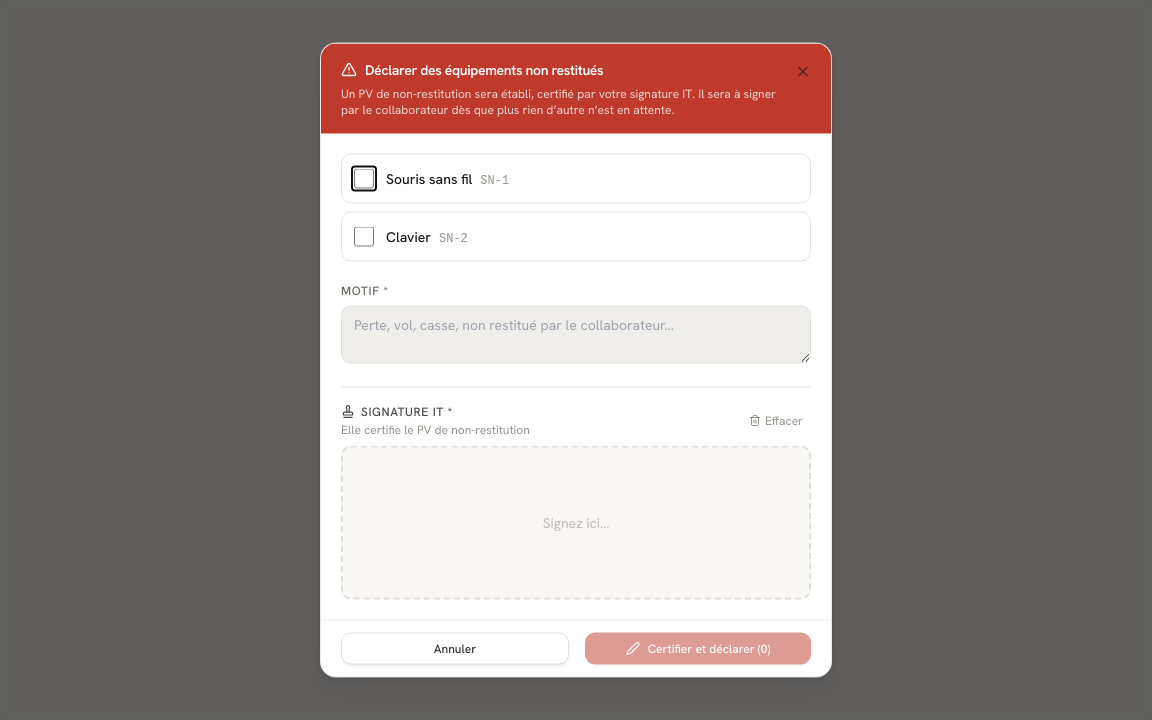
Test case: DeclareNotReturnedModal › bouton inactif tant qu’aucun équipement n’est coché (IMD n° 5)
Check: the button "Certifier et déclarer (0)" is disabled, box [585, 632, 811, 664]
Click the 1st checkbox at (364, 178), box [354, 168, 374, 188]
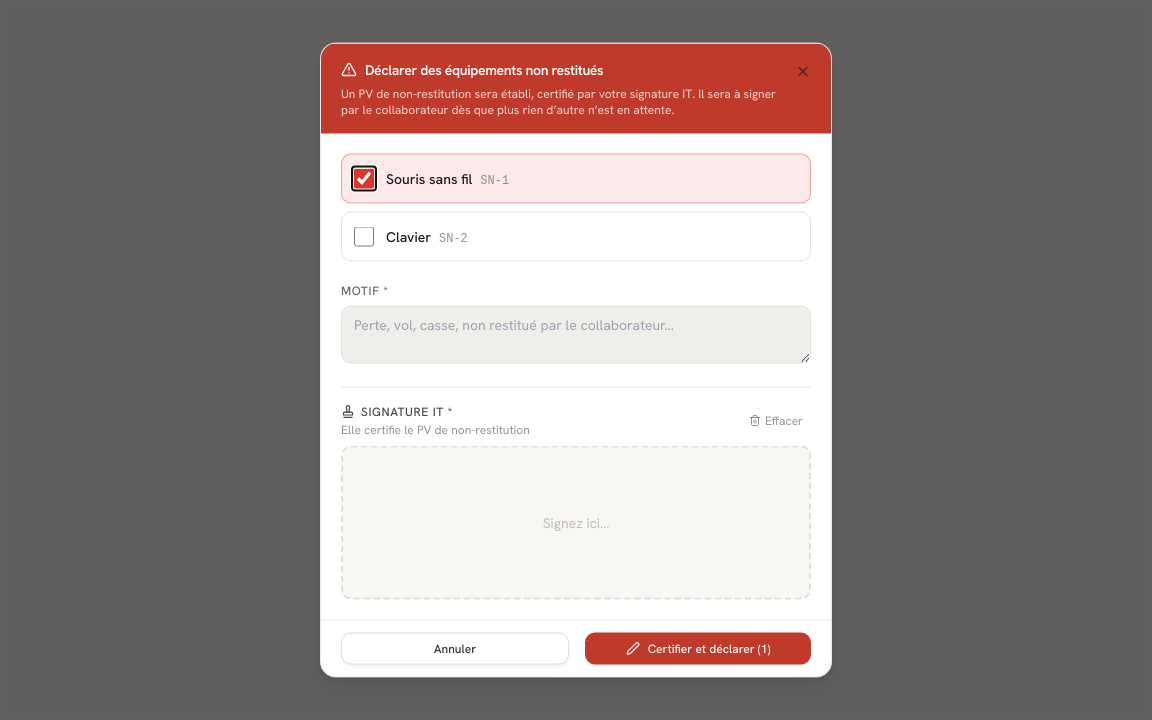
Check: the button "Certifier et déclarer (1)" is enabled, box [585, 632, 811, 664]
